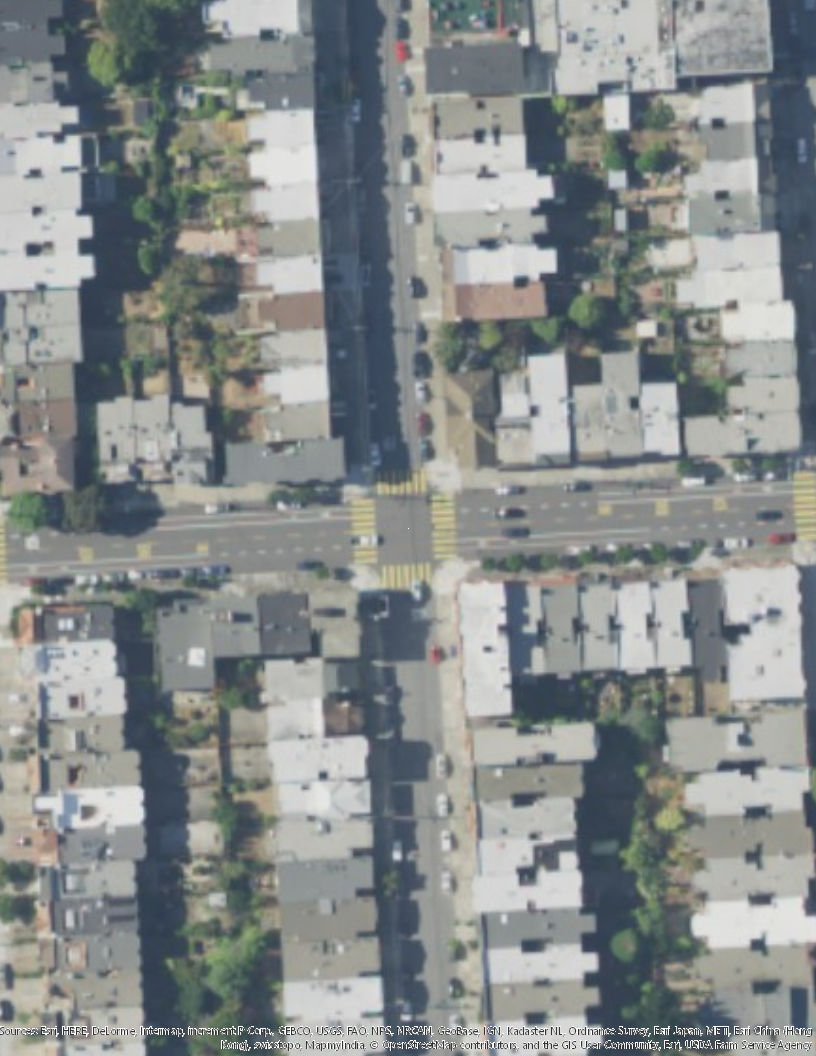zebracross: (349, 500, 380, 566), (430, 493, 456, 557), (792, 471, 816, 537), (382, 560, 433, 590), (376, 467, 426, 495)
